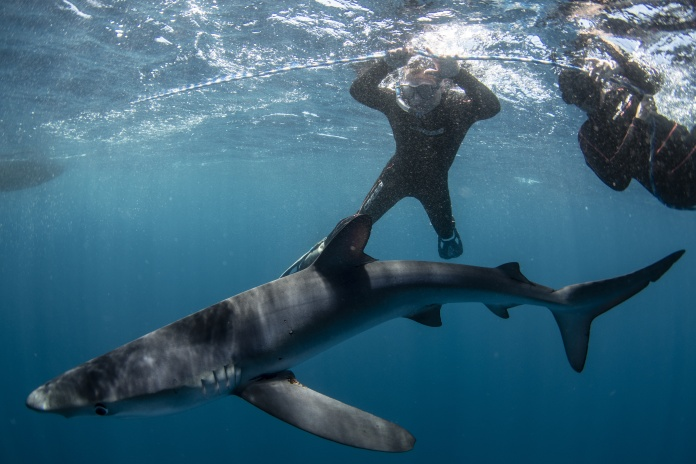Azul: (1, 214, 692, 459)
